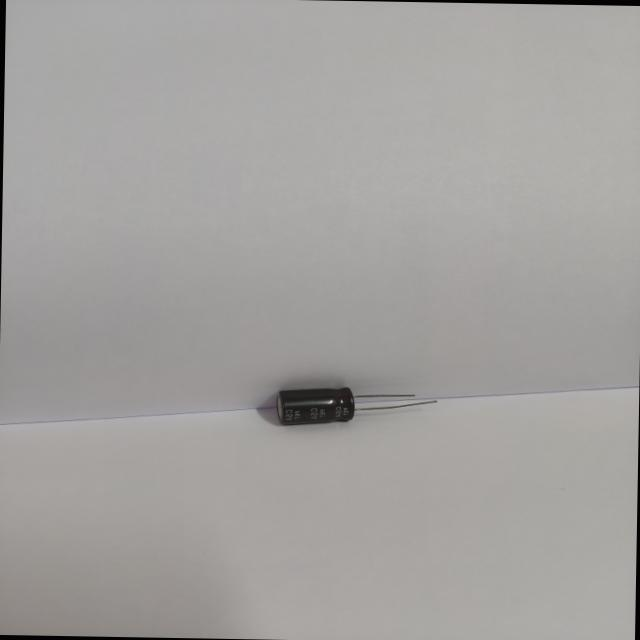capacitor: (254, 368, 452, 439)
